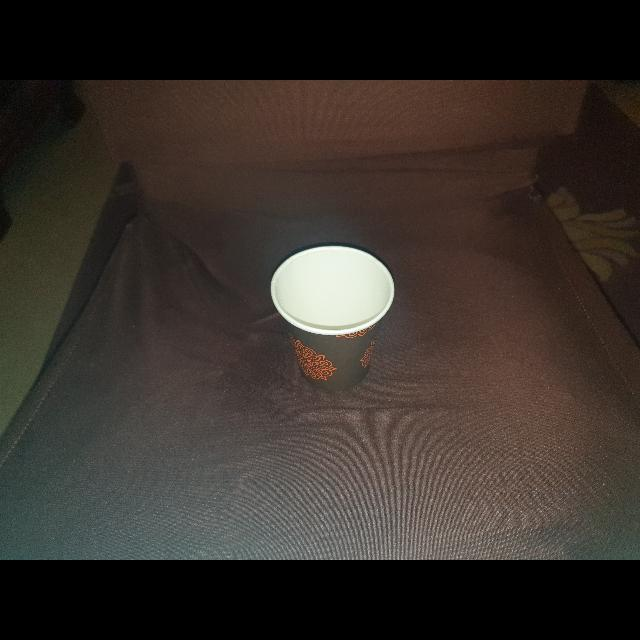trash: (266, 244, 398, 388)
